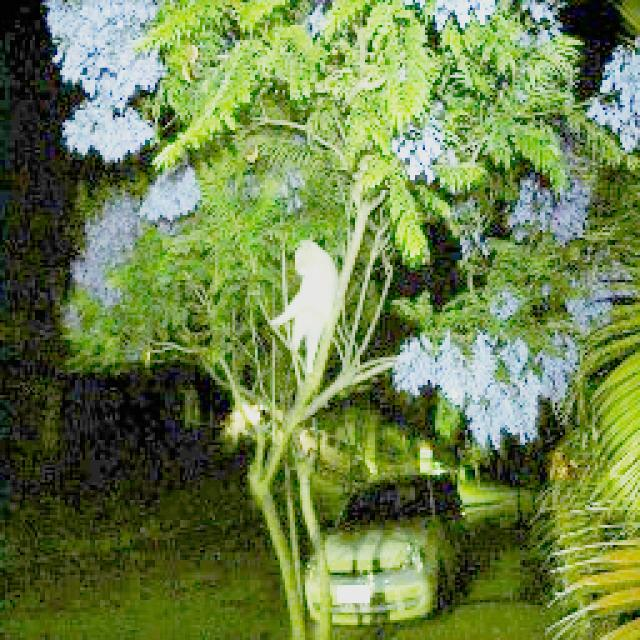cat: (271, 236, 341, 376)
